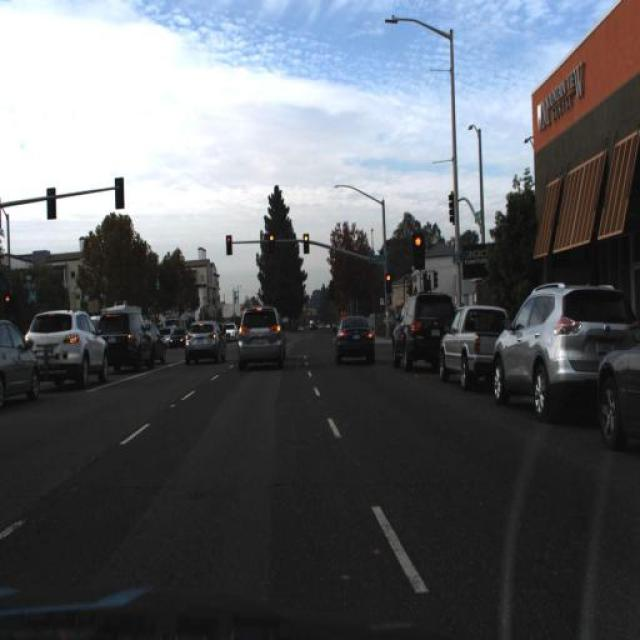car: (490, 274, 635, 428), (20, 306, 116, 392), (436, 300, 506, 390), (388, 286, 452, 376), (595, 327, 640, 452), (93, 305, 157, 377), (0, 313, 40, 415), (234, 302, 290, 374), (330, 310, 379, 366), (182, 314, 227, 368), (168, 326, 186, 354)
trafficLight-RedLeft: (411, 231, 424, 268), (266, 231, 280, 260), (224, 231, 236, 259), (300, 229, 312, 256), (384, 268, 394, 298)
